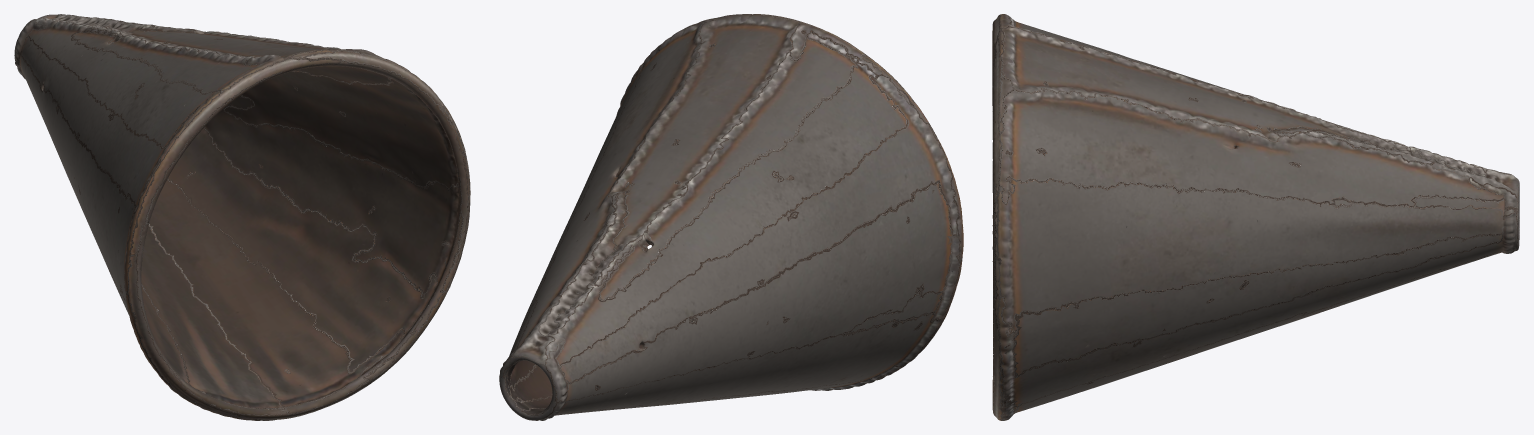
3 renders of one model, left to right at view 1: azimuth 30°, elevation 25°; view 2: azimuth 150°, elevation 25°; view 3: azimuth 270°, elevation 25°, orthographic.
Size of the model in its own units: 1.23 by 1.23 by 1.61.
1 material, 1 textured.
